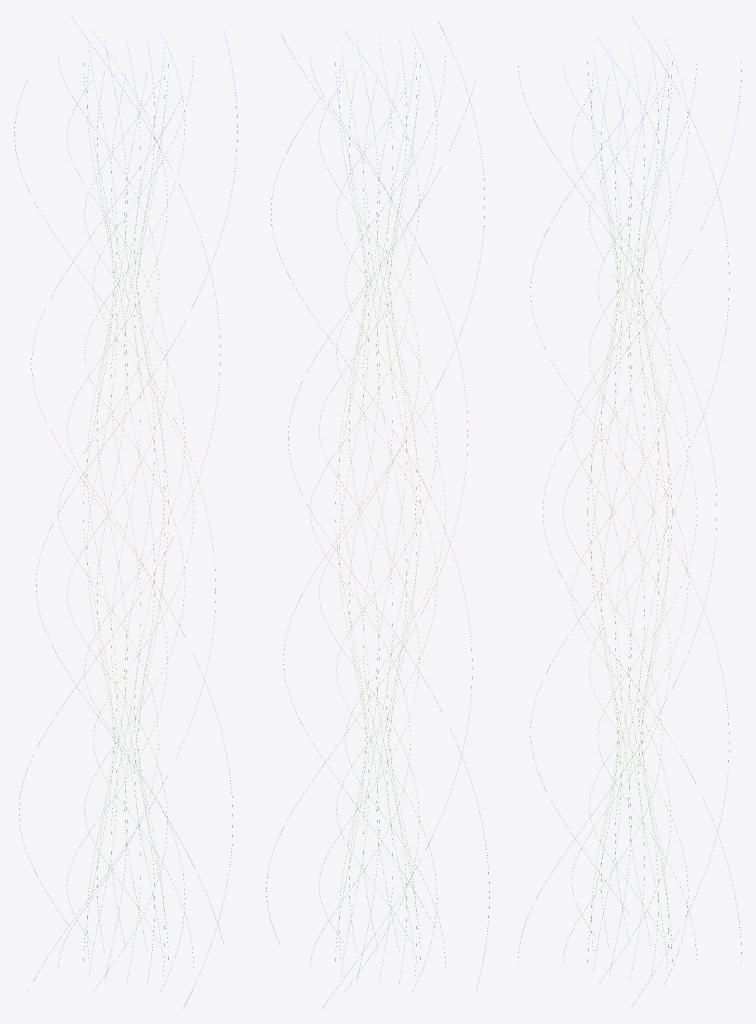
The model's file is SM_DarklineForSpline_0.FBX.
The picture shows the model from 3 angles, left to right: view 1: azimuth 30°, elevation 25°; view 2: azimuth 150°, elevation 25°; view 3: azimuth 270°, elevation 25°; orthographic projection.
Parts seen in each view (by area): view 1: SM_DarklineForSpline_0; view 2: SM_DarklineForSpline_0; view 3: SM_DarklineForSpline_0.
Part boxes in pixels (bbox=[...]): SM_DarklineForSpline_0: bbox=[14, 33, 237, 1006]; SM_DarklineForSpline_0: bbox=[266, 23, 489, 1005]; SM_DarklineForSpline_0: bbox=[518, 38, 741, 983].
Bounding box in the file's own units: 44.99 × 44.99 × 200.
